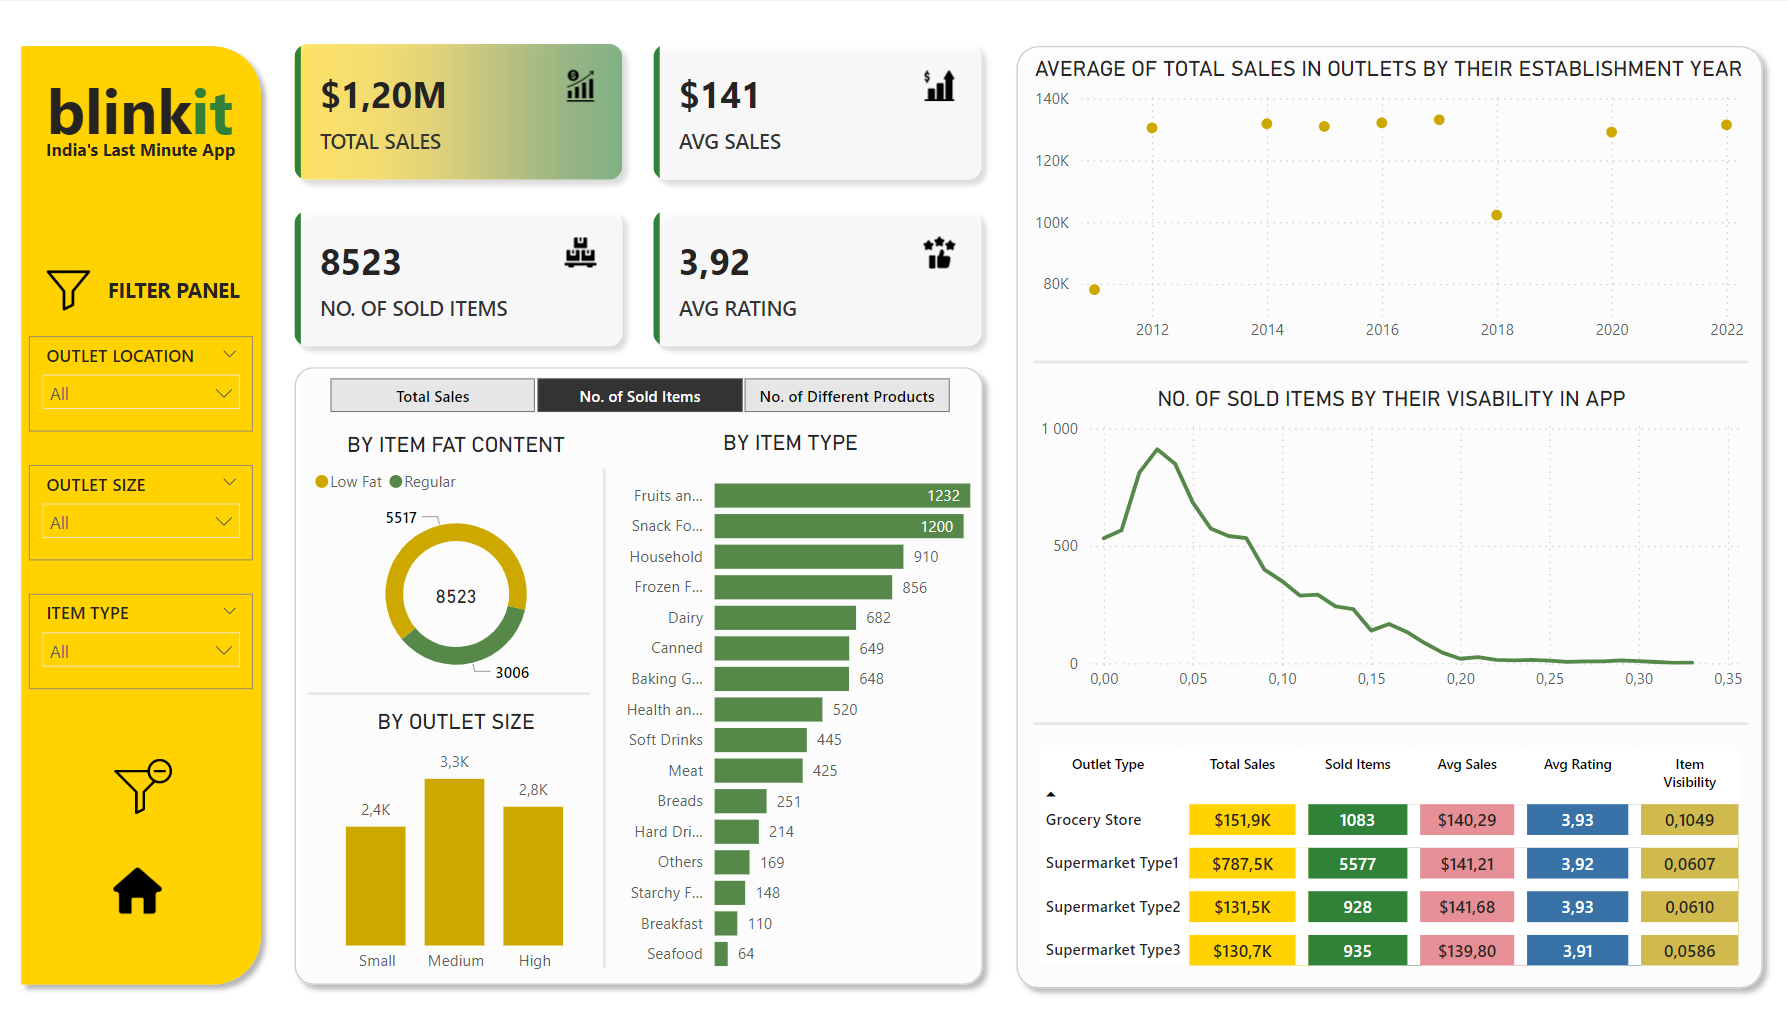

What the dashboard file says about the page in this screenshot:
{"tool":"powerbi","page":{"name":"blinkit","canvas":[1400,800],"ordinal":0},"visuals":[{"type":"shape","box":[8.3,26.2,205.1,750.2],"z":0},{"type":"textbox","box":[28,46.2,164.9,74.2],"z":1000},{"type":"textbox","box":[25,102.2,171.5,31.3],"z":2000},{"type":"shape","box":[221.6,276.7,554.7,499.7],"z":3000},{"type":"donutChart","title":"BY ITEM FAT CONTENT","fields":{"Y":["BlinkIT Grocery Data.No. of Sold Items"],"Category":["BlinkIT Grocery Data.Item Fat Content"]},"box":[240.9,335.9,231.3,206.5],"z":4000},{"type":"slicer","fields":{"Values":["Metrics.Metrics"]},"box":[232.6,287.7,532.7,39.9],"z":5000},{"type":"clusteredBarChart","title":"BY ITEM TYPE","fields":{"Y":["BlinkIT Grocery Data.No. of Sold Items"],"Category":["BlinkIT Grocery Data.Item Type"]},"box":[472.1,334,290.4,433],"z":6000},{"type":"clusteredColumnChart","title":"BY OUTLET SIZE","fields":{"Y":["BlinkIT Grocery Data.No. of Sold Items"],"Category":["BlinkIT Grocery Data.Outlet Size"]},"box":[240.9,552,231.2,214.7],"z":7000},{"type":"cardVisual","fields":{"Data":["BlinkIT Grocery Data.Total Sales","BlinkIT Grocery Data.Avg Sales","BlinkIT Grocery Data.No. of Items","BlinkIT Grocery Data.Avg Rating"]},"box":[213.4,16.5,571.2,271.2],"z":8000},{"type":"cardVisual","fields":{"Data":["BlinkIT Grocery Data.No. of Sold Items"]},"box":[301,417,110.1,92.2],"z":9000},{"type":"shape","box":[784.6,26.2,600.2,753],"z":10000},{"type":"lineChart","title":"AVERAGE OF TOTAL SALES IN OUTLETS BY THEIR ESTABLISHMENT YEAR","fields":{"Category":["BlinkIT Grocery Data – OUTLETS.Outlet Establishment Year"],"Y":["Avg(BlinkIT Grocery Data – OUTLETS.Total Sales in Particular Outlet)"]},"box":[803,43,563,232],"z":11000},{"type":"lineChart","title":"NO. OF SOLD ITEMS BY THEIR VISABILITY IN APP","fields":{"Category":["BlinkIT Grocery Data.Item Visibility (rounded)"],"Y":["CountNonNull(BlinkIT Grocery Data.Item Visibility (rounded))"]},"box":[806.6,300.1,558.9,246.4],"z":12000},{"type":"shape","box":[240.9,524.5,220.2,31.7],"z":13000},{"type":"shape","box":[447.4,364.8,49.6,389.6],"z":14000},{"type":"shape","box":[806.6,265.7,557.5,31.7],"z":15000},{"type":"pivotTable","fields":{"Rows":["BlinkIT Grocery Data.Outlet Type"],"Values":["BlinkIT Grocery Data.Total Sales","BlinkIT Grocery Data.No. of Sold Items","BlinkIT Grocery Data.Avg Sales","BlinkIT Grocery Data.Avg Rating","Avg(BlinkIT Grocery Data.Item Visibility)"]},"box":[806.6,579.5,557.5,181.7],"z":16000},{"type":"shape","box":[806.6,547.9,557.5,31.7],"z":17000},{"type":"slicer","fields":{"Values":["BlinkIT Grocery Data.Outlet Location Type"]},"box":[23,261.5,174.8,74.3],"z":18000},{"type":"slicer","fields":{"Values":["BlinkIT Grocery Data.Outlet Size"]},"box":[23.4,362,174.8,74.3],"z":19000},{"type":"slicer","fields":{"Values":["BlinkIT Grocery Data.Item Type"]},"box":[23.4,462.5,174.8,74.3],"z":20000},{"type":"image","box":[27.5,203.7,53.7,44],"z":21000},{"type":"textbox","box":[75.7,209.2,121.1,33],"z":22000},{"type":"image","box":[53.7,560.2,112.9,106],"z":23000},{"type":"image","box":[67.4,652.5,79.8,82.6],"z":24000}]}

Visuals, with their boxes in screenshot pixels (x1, y1, x2, y2), scaled from the page's 1400x800 canvas onto the 1788x1023 screenshot:
shape: Rect(11, 34, 273, 993)
textbox: Rect(36, 59, 246, 154)
textbox: Rect(32, 131, 251, 171)
shape: Rect(283, 354, 991, 993)
"BY ITEM FAT CONTENT" donutChart: Rect(308, 430, 603, 694)
slicer - Metrics.Metrics: Rect(297, 368, 977, 419)
"BY ITEM TYPE" clusteredBarChart: Rect(603, 427, 974, 981)
"BY OUTLET SIZE" clusteredColumnChart: Rect(308, 706, 603, 980)
cardVisual - BlinkIT Grocery Data.Total Sales x BlinkIT Grocery Data.Avg Sales: Rect(273, 21, 1002, 368)
cardVisual - BlinkIT Grocery Data.No. of Sold Items: Rect(384, 533, 525, 651)
shape: Rect(1002, 34, 1769, 996)
"AVERAGE OF TOTAL SALES IN OUTLETS BY THEIR ESTABLISHMENT YEAR" lineChart: Rect(1026, 55, 1745, 352)
"NO. OF SOLD ITEMS BY THEIR VISABILITY IN APP" lineChart: Rect(1030, 384, 1744, 699)
shape: Rect(308, 671, 589, 711)
shape: Rect(571, 466, 635, 965)
shape: Rect(1030, 340, 1742, 380)
pivotTable - BlinkIT Grocery Data.Outlet Type x BlinkIT Grocery Data.Total Sales: Rect(1030, 741, 1742, 973)
shape: Rect(1030, 701, 1742, 741)
slicer - BlinkIT Grocery Data.Outlet Location Type: Rect(29, 334, 253, 429)
slicer - BlinkIT Grocery Data.Outlet Size: Rect(30, 463, 253, 558)
slicer - BlinkIT Grocery Data.Item Type: Rect(30, 591, 253, 686)
image: Rect(35, 260, 104, 317)
textbox: Rect(97, 268, 251, 310)
image: Rect(69, 716, 213, 852)
image: Rect(86, 834, 188, 940)
